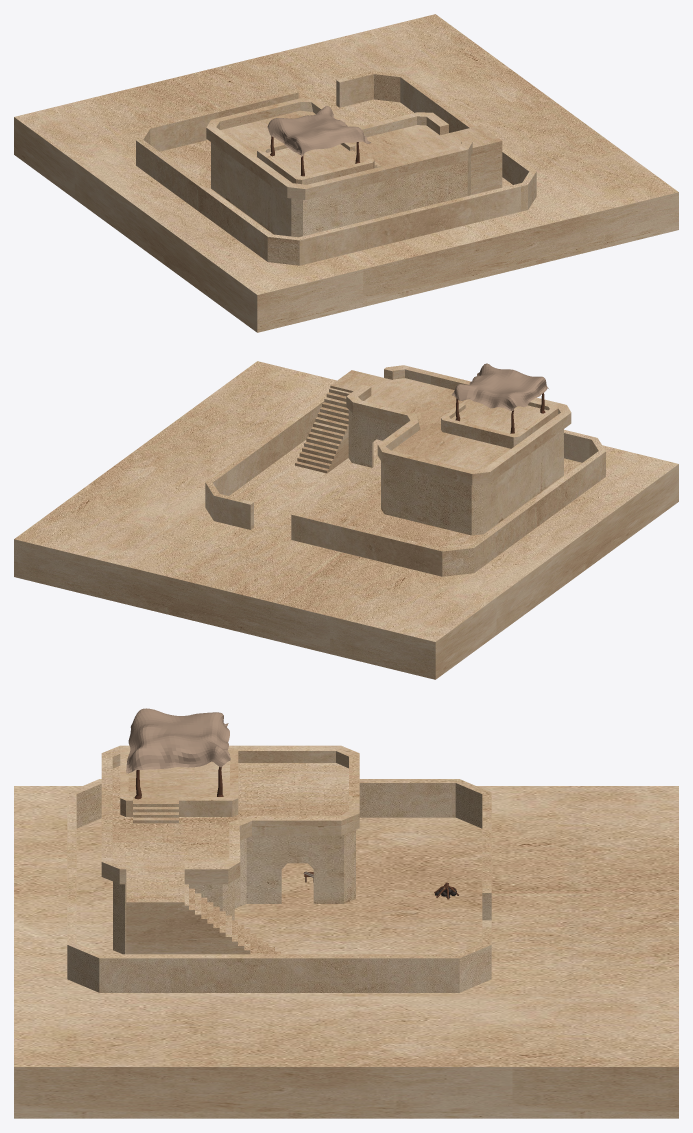
The model's file is house_sectioned.glb.
3 renders of one model, top to bottom at view 1: azimuth 30°, elevation 25°; view 2: azimuth 150°, elevation 25°; view 3: azimuth 270°, elevation 25°, orthographic. The views are drawn at different scales.
Visible parts, largest first — view 1: 0f_bottom.001, 0f_fence.001, 2f_floor.001, 2f_house_bottom.001, 2f_balcony.001, 2f_balcony_top.001, 1f_stairs, 1f_house_bottom.001; view 2: 0f_bottom.001, 0f_fence.001, 2f_floor.001, 2f_house_bottom.001, 2f_balcony.001, 1f_stairs, 2f_balcony_top.001, 1f_house_bottom.001; view 3: 0f_bottom.001, 0f_fence.001, 2f_floor.001, 1f_stairs, 2f_house_bottom.001, 2f_balcony.001, 2f_balcony_top.001, 1f_house_bottom.001.
Boxes of the visible parts, x1,y1,x2,y2 form: 0f_bottom.001: [14, 14, 678, 332]; 0f_fence.001: [136, 71, 536, 265]; 2f_floor.001: [206, 98, 472, 199]; 2f_house_bottom.001: [211, 142, 470, 237]; 2f_balcony.001: [257, 142, 381, 184]; 2f_balcony_top.001: [267, 106, 370, 157]; 1f_stairs: [449, 125, 502, 194]; 1f_house_bottom.001: [211, 179, 470, 235]; 0f_bottom.001: [14, 361, 678, 679]; 0f_fence.001: [205, 392, 605, 576]; 2f_floor.001: [346, 365, 571, 484]; 2f_house_bottom.001: [348, 410, 563, 526]; 2f_balcony.001: [441, 399, 558, 448]; 1f_stairs: [295, 370, 383, 473]; 2f_balcony_top.001: [452, 363, 548, 410]; 1f_house_bottom.001: [348, 439, 563, 535]; 0f_bottom.001: [14, 786, 678, 1118]; 0f_fence.001: [67, 779, 491, 992]; 2f_floor.001: [101, 745, 359, 884]; 1f_stairs: [126, 881, 280, 954]; 2f_house_bottom.001: [113, 830, 355, 942]; 2f_balcony.001: [120, 748, 238, 823]; 2f_balcony_top.001: [126, 708, 230, 773]; 1f_house_bottom.001: [113, 886, 355, 954].
Bounding box in the file's own units: 50 × 15.64 × 50.
Materials: 8 (5 with a texture image).
